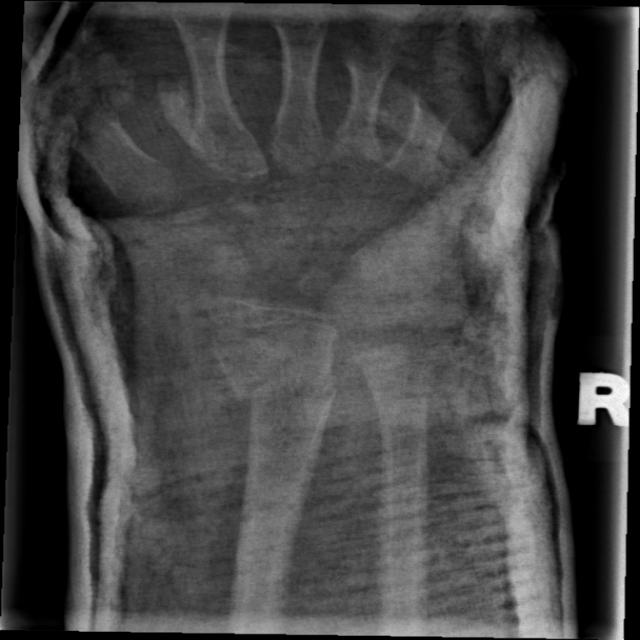radius fracture: (217, 336, 353, 456)
